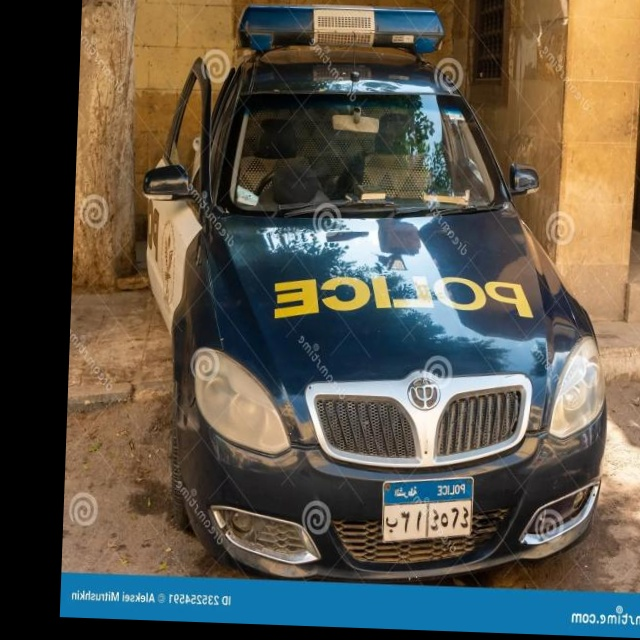police-car: (128, 0, 623, 591)
